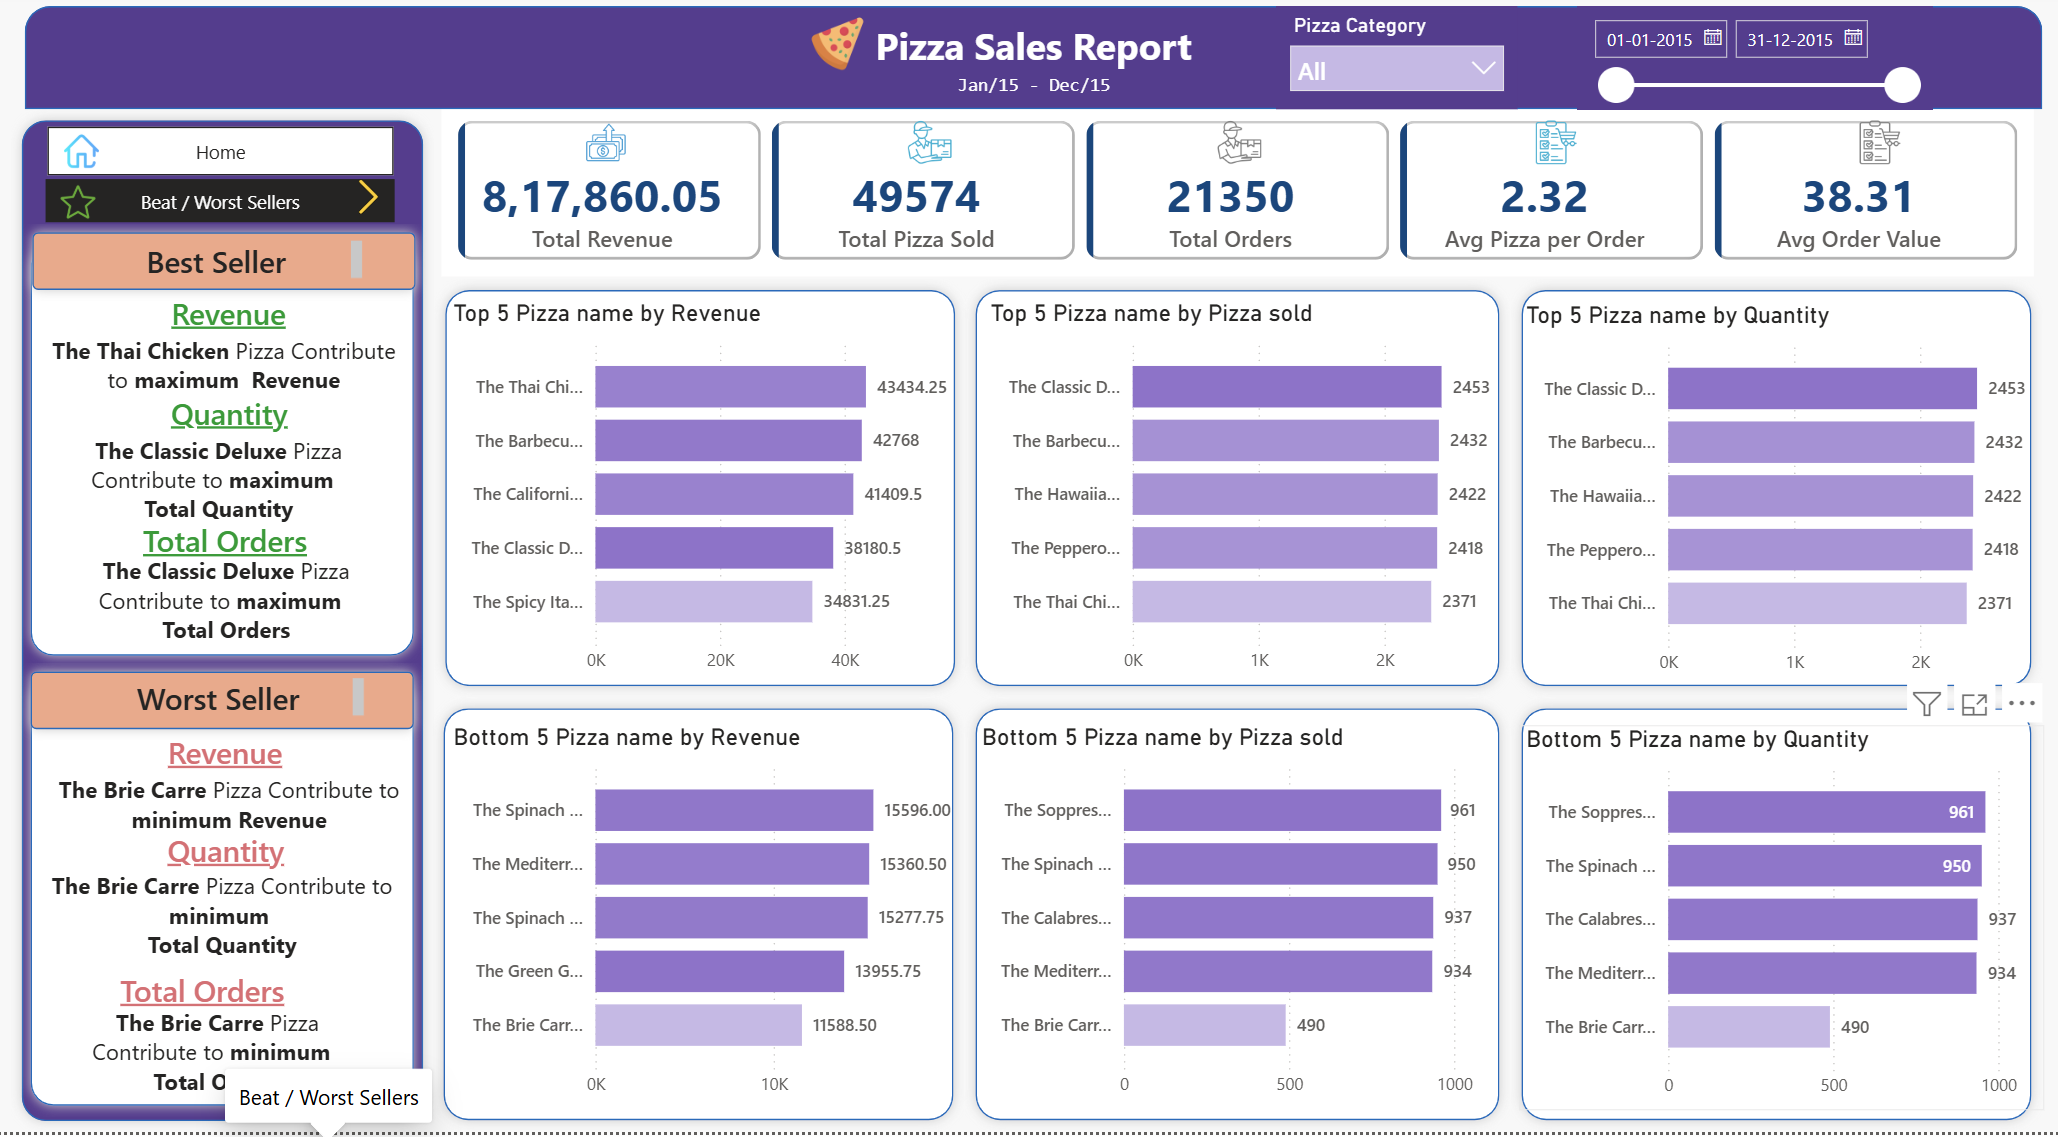

Layout of this report page (visuals, bound fields, positions):
{"tool":"powerbi","page":{"name":"Beat / Worst Sellers","canvas":[1500,820],"ordinal":1},"visuals":[{"type":"cardVisual","fields":{"Data":["pizza_sales.total Revenue","pizza_sales.Total Pizza Sold","pizza_sales.Total Orders","pizza_sales.Avg Pizza per Order","pizza_sales.AOV"]},"box":[316,75.5,1157.1,134.7],"z":0},{"type":"shape","box":[21.4,10.1,1451.7,74.3],"z":1000},{"type":"textbox","box":[622,15.1,250.6,49.1],"z":2000},{"type":"textbox","box":[687.4,51.6,120.9,31.5],"z":3000},{"type":"image","box":[586.7,16.4,39,41.5],"z":4000},{"type":"image","box":[413,91.9,52.9,32.7],"z":5000},{"type":"image","box":[645.9,91.9,52.9,32.7],"z":6000},{"type":"image","box":[868.7,91.9,52.9,32.7],"z":7000},{"type":"image","box":[1096.6,91.9,52.9,32.7],"z":8000},{"type":"image","box":[1329.6,91.9,52.9,32.7],"z":9000},{"type":"shape","box":[316,206.5,382.8,300.9],"z":10000},{"type":"shape","box":[11.3,84.4,304.7,736],"z":11000},{"type":"shape","box":[17.2,485.6,291.7,323.3],"z":12000},{"type":"shape","box":[17.2,173.9,291.7,311.8],"z":13000},{"type":"shape","box":[18.7,165.2,291.7,57.5],"z":14000},{"type":"textbox","box":[56,173.9,212.6,37.4],"z":15000},{"type":"textbox","box":[61.8,211.2,212.6,40.2],"z":16000},{"type":"textbox","box":[34.5,241.4,261.5,60.3],"z":17000},{"type":"textbox","box":[63.2,283,211.2,38.8],"z":18000},{"type":"textbox","box":[57.5,400.9,217,112.1],"z":19000},{"type":"shape","box":[17.2,481.3,291.7,57.5],"z":20000},{"type":"textbox","box":[57.5,488.5,212.6,37.4],"z":21000},{"type":"slicer","fields":{"Values":["pizza_sales.pizza_category"]},"box":[921.6,10.1,173.7,74.3],"z":22000},{"type":"slicer","fields":{"Values":["pizza_sales.order_date"]},"box":[1138.2,10.1,255.6,74.3],"z":23000},{"type":"shape","box":[314.8,507.4,382.8,312.2],"z":24000},{"type":"shape","box":[697.5,206.5,392.8,300.9],"z":25000},{"type":"shape","box":[1090.3,206.5,382.8,300.9],"z":26000},{"type":"shape","box":[697.5,507.4,392.8,312.2],"z":27000},{"type":"shape","box":[1090.3,507.4,382.8,312.2],"z":28000},{"type":"barChart","title":"Top 5 Pizza name  by Revenue","fields":{"Category":["pizza_sales.pizza_name"],"Y":["pizza_sales.total Revenue"]},"box":[324.7,221.3,377.9,277.3],"z":29000},{"type":"barChart","title":"Bottom 5 Pizza name  by Revenue","fields":{"Category":["pizza_sales.pizza_name"],"Y":["pizza_sales.total Revenue"]},"box":[324.7,525.9,377.9,277.3],"z":30000},{"type":"barChart","title":"Top 5 Pizza name  by Pizza sold","fields":{"Category":["pizza_sales.pizza_name"],"Y":["pizza_sales.Total Pizza Sold"]},"box":[711.2,221.3,377.9,277.3],"z":31000},{"type":"barChart","title":"Bottom 5 Pizza name  by Pizza sold","fields":{"Category":["pizza_sales.pizza_name"],"Y":["pizza_sales.Total Pizza Sold"]},"box":[705.5,525.9,377.9,277.3],"z":32000},{"type":"barChart","title":"Top 5 Pizza name  by Quantity","fields":{"Category":["pizza_sales.pizza_name"],"Y":["Sum(pizza_sales.quantity)"]},"box":[1096.3,222.7,377.9,277.3],"z":33000},{"type":"barChart","title":"Bottom 5 Pizza name  by Quantity","fields":{"Category":["pizza_sales.pizza_name"],"Y":["Sum(pizza_sales.quantity)"]},"box":[1096.3,527.3,377.9,277.3],"z":34000},{"type":"textbox","box":[58.9,375,212.6,40.2],"z":35000},{"type":"textbox","box":[30.2,313.2,261.5,81.9],"z":36000},{"type":"textbox","box":[58.9,527.3,212.6,40.2],"z":37000},{"type":"textbox","box":[37.4,557.5,261.5,60.3],"z":38000},{"type":"textbox","box":[60.3,597.7,211.2,38.8],"z":39000},{"type":"textbox","box":[33,626.4,261.5,81.9],"z":40000},{"type":"textbox","box":[43.1,698.3,212.6,40.2],"z":41000},{"type":"textbox","box":[51.7,725.6,217,94.8],"z":42000},{"type":"pageNavigator","box":[37.8,97,249.3,35.3],"z":42001},{"type":"pageNavigator","box":[37,135,251.8,31.5],"z":42002},{"type":"image","box":[249.3,134.7,39,25.2],"z":42003},{"type":"image","box":[42.8,102,39,25.2],"z":42004},{"type":"image","box":[40.3,138.5,39,25.2],"z":42005}]}

Visuals, with their boxes in screenshot pixels (x1, y1, x2, y2), scaled from the page's 1500x820 canvas onto the 2058x1137 screenshot:
cardVisual - pizza_sales.total Revenue x pizza_sales.Total Pizza Sold: [left=434, top=105, right=2021, bottom=291]
shape: [left=29, top=14, right=2021, bottom=117]
textbox: [left=853, top=21, right=1197, bottom=89]
textbox: [left=943, top=72, right=1109, bottom=115]
image: [left=805, top=23, right=858, bottom=80]
image: [left=567, top=127, right=639, bottom=173]
image: [left=886, top=127, right=959, bottom=173]
image: [left=1192, top=127, right=1264, bottom=173]
image: [left=1505, top=127, right=1577, bottom=173]
image: [left=1824, top=127, right=1897, bottom=173]
shape: [left=434, top=286, right=959, bottom=704]
shape: [left=16, top=117, right=434, bottom=1136]
shape: [left=24, top=673, right=424, bottom=1122]
shape: [left=24, top=241, right=424, bottom=673]
shape: [left=26, top=229, right=426, bottom=309]
textbox: [left=77, top=241, right=369, bottom=293]
textbox: [left=85, top=293, right=376, bottom=349]
textbox: [left=47, top=335, right=406, bottom=418]
textbox: [left=87, top=392, right=376, bottom=446]
textbox: [left=79, top=556, right=377, bottom=711]
shape: [left=24, top=667, right=424, bottom=747]
textbox: [left=79, top=677, right=371, bottom=729]
slicer - pizza_sales.pizza_category: [left=1264, top=14, right=1503, bottom=117]
slicer - pizza_sales.order_date: [left=1562, top=14, right=1912, bottom=117]
shape: [left=432, top=704, right=957, bottom=1136]
shape: [left=957, top=286, right=1496, bottom=704]
shape: [left=1496, top=286, right=2021, bottom=704]
shape: [left=957, top=704, right=1496, bottom=1136]
shape: [left=1496, top=704, right=2021, bottom=1136]
"Top 5 Pizza name  by Revenue" barChart: [left=445, top=307, right=964, bottom=691]
"Bottom 5 Pizza name  by Revenue" barChart: [left=445, top=729, right=964, bottom=1114]
"Top 5 Pizza name  by Pizza sold" barChart: [left=976, top=307, right=1494, bottom=691]
"Bottom 5 Pizza name  by Pizza sold" barChart: [left=968, top=729, right=1486, bottom=1114]
"Top 5 Pizza name  by Quantity" barChart: [left=1504, top=309, right=2023, bottom=693]
"Bottom 5 Pizza name  by Quantity" barChart: [left=1504, top=731, right=2023, bottom=1116]
textbox: [left=81, top=520, right=372, bottom=576]
textbox: [left=41, top=434, right=400, bottom=548]
textbox: [left=81, top=731, right=372, bottom=787]
textbox: [left=51, top=773, right=410, bottom=857]
textbox: [left=83, top=829, right=372, bottom=883]
textbox: [left=45, top=869, right=404, bottom=982]
textbox: [left=59, top=968, right=351, bottom=1024]
textbox: [left=71, top=1006, right=369, bottom=1136]
pageNavigator: [left=52, top=134, right=394, bottom=183]
pageNavigator: [left=51, top=187, right=396, bottom=231]
image: [left=342, top=187, right=396, bottom=222]
image: [left=59, top=141, right=112, bottom=176]
image: [left=55, top=192, right=109, bottom=227]
